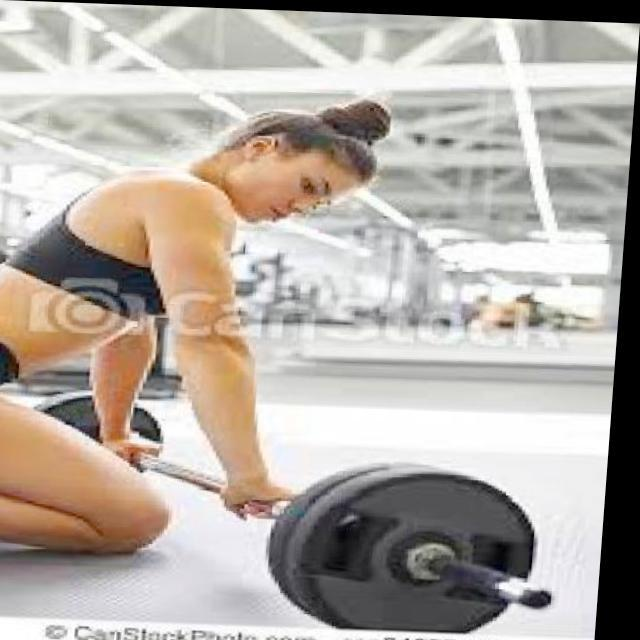barbell: (292, 457, 583, 634)
